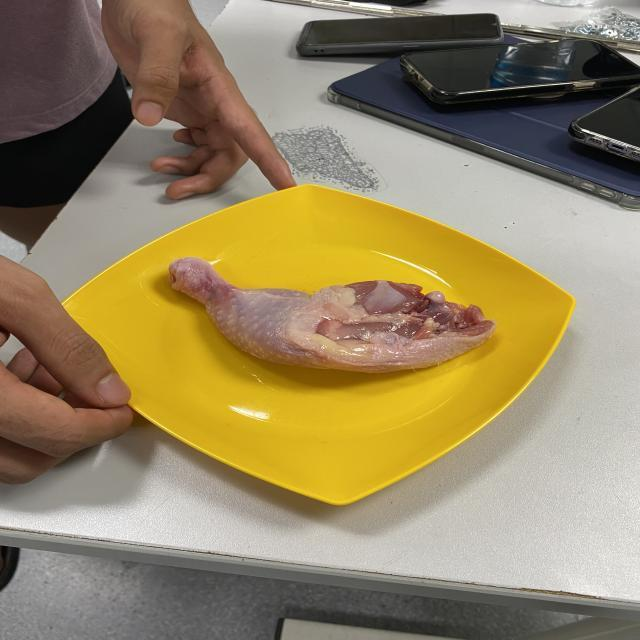quater: (157, 254, 498, 398)
